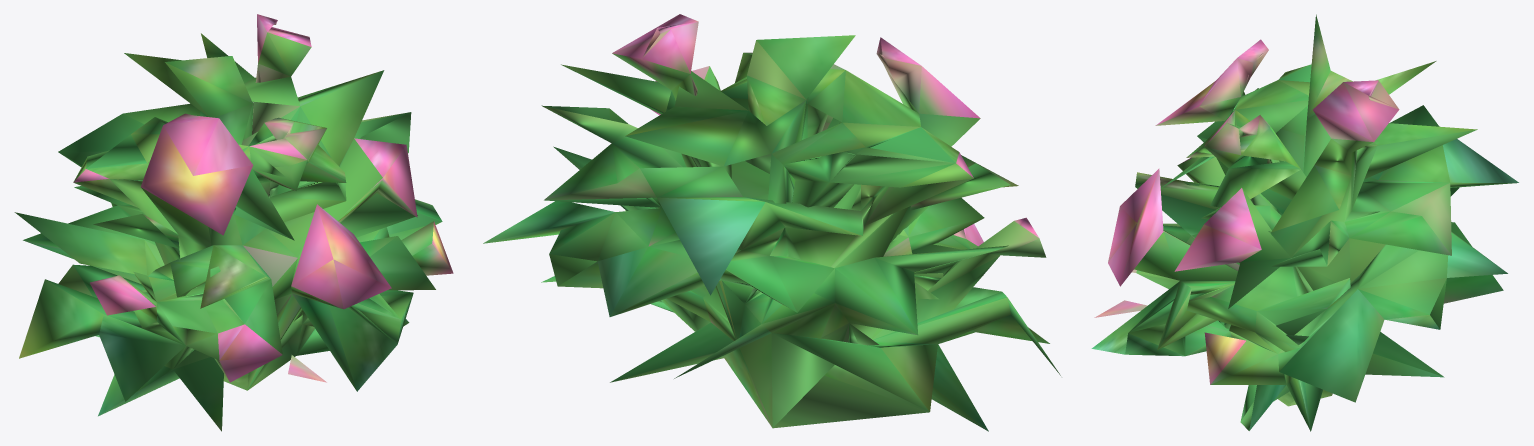
The model's file is bush-pink.glb.
3 views of the same model, side by side, from view 1: azimuth 30°, elevation 25°; view 2: azimuth 150°, elevation 25°; view 3: azimuth 270°, elevation 25° (orthographic). The views are drawn at different scales.
Parts seen in each view (by area): view 1: plant_bush-pink; view 2: plant_bush-pink; view 3: plant_bush-pink.
Part boxes in pixels (x1,y1,x2,y2): plant_bush-pink: [14, 14, 453, 431]; plant_bush-pink: [483, 14, 1060, 431]; plant_bush-pink: [1091, 14, 1518, 431].
Bounding box in the file's own units: 1.38 × 1 × 1.09.
1 material, 1 textured.
